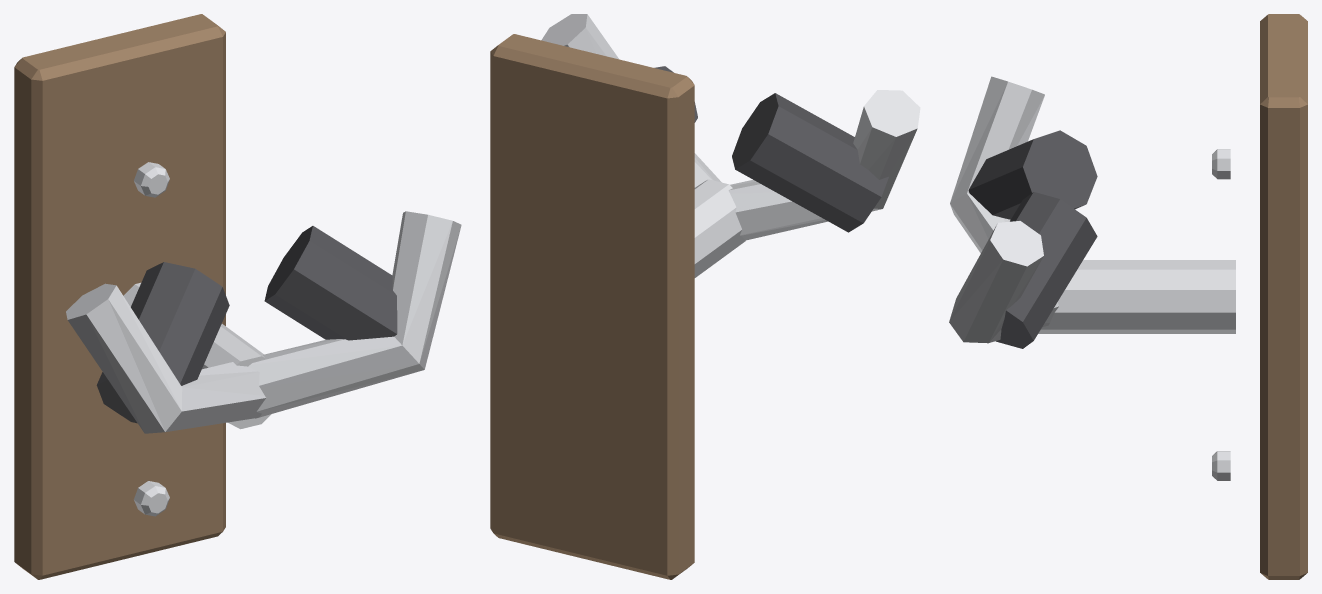
The model's file is music-recording-studio-and-instruments-guitar-wall-han-030fdae1__33833.glb.
The picture shows the model from 3 angles, left to right: view 1: azimuth 30°, elevation 25°; view 2: azimuth 150°, elevation 25°; view 3: azimuth 270°, elevation 25°; orthographic projection. The views are drawn at different scales.
Visible parts, largest first — view 1: guitar-wall-hanger; view 2: guitar-wall-hanger; view 3: guitar-wall-hanger.
Part boxes in pixels (bbox=[...]): guitar-wall-hanger: bbox=[14, 14, 461, 579]; guitar-wall-hanger: bbox=[490, 14, 920, 579]; guitar-wall-hanger: bbox=[949, 14, 1307, 579].
Size of the model in its own units: 0.1592 by 0.2 by 0.1348.
